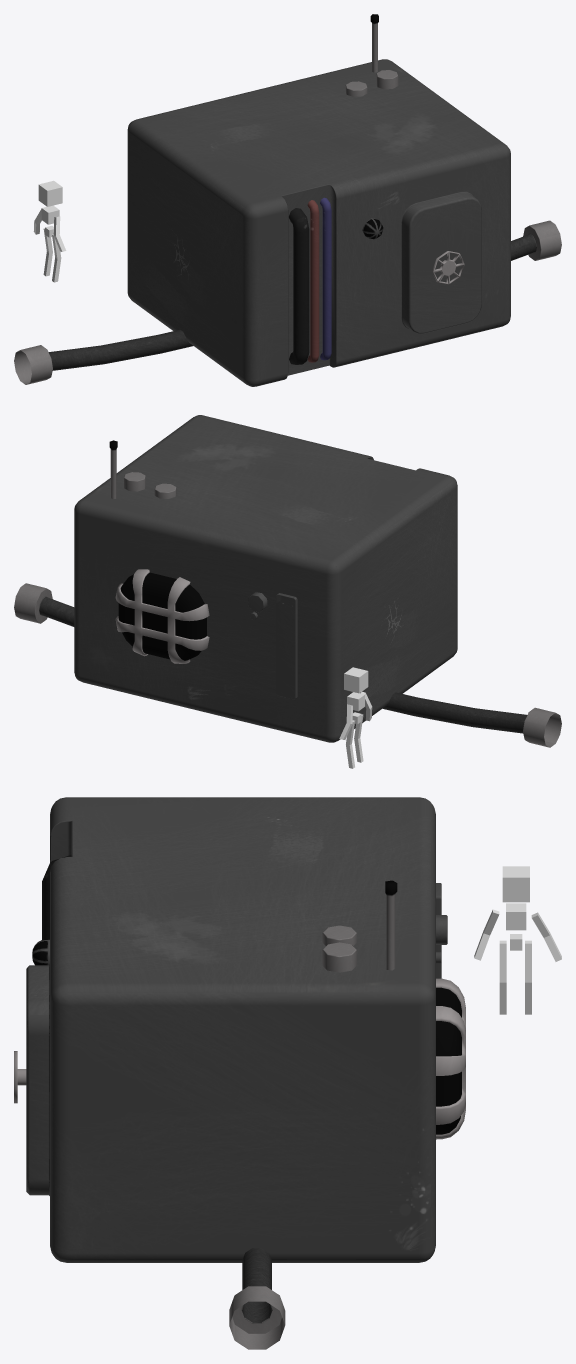
Rendered from Sci-fi-stuff.fbx.
The picture shows the model from 3 angles, top to bottom: view 1: azimuth 30°, elevation 25°; view 2: azimuth 150°, elevation 25°; view 3: azimuth 270°, elevation 25°; orthographic projection. The views are drawn at different scales.
Parts seen in each view (by area): view 1: Base, Hanging, Cube; view 2: Base, Hanging, Cube; view 3: Base, Hanging, Cube.
Boxes of the visible parts, left/top/right/bottom form: Base: left=127, top=14, right=510, bottom=386; Hanging: left=14, top=220, right=561, bottom=384; Cube: left=33, top=180, right=66, bottom=282; Base: left=74, top=415, right=457, bottom=742; Hanging: left=14, top=583, right=561, bottom=747; Cube: left=339, top=667, right=372, bottom=768; Base: left=14, top=797, right=465, bottom=1262; Hanging: left=229, top=1248, right=285, bottom=1349; Cube: left=474, top=866, right=561, bottom=1014.
Bounding box in the file's own units: 1075 × 471 × 629.
